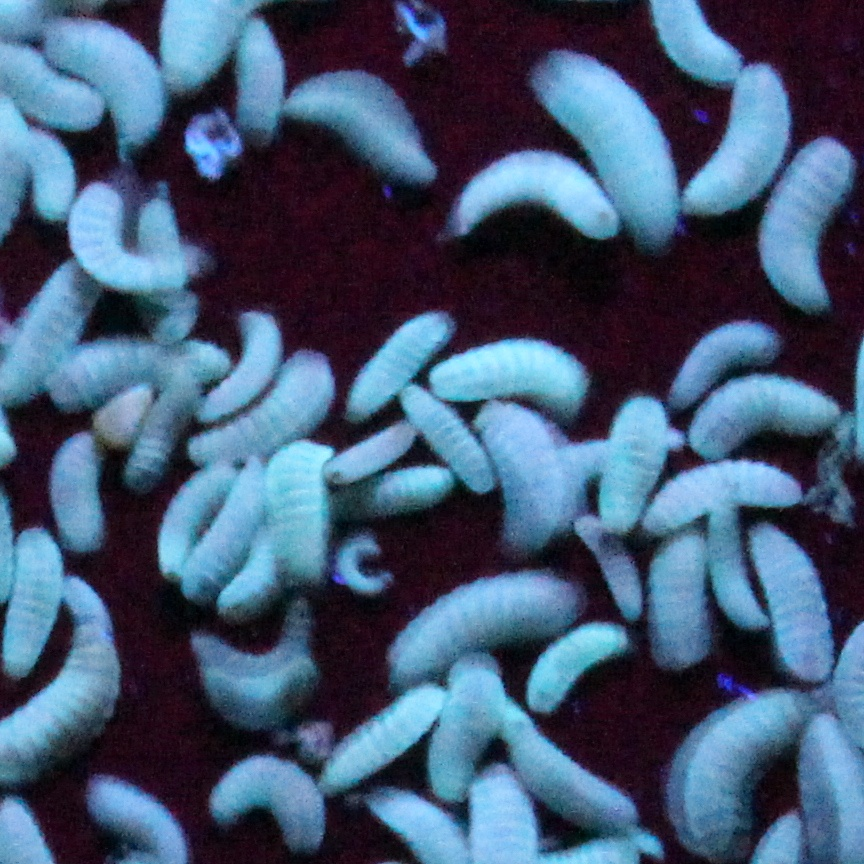larve: (522, 46, 675, 259), (383, 564, 581, 687), (271, 63, 445, 202), (668, 56, 794, 230), (760, 125, 860, 330), (30, 17, 173, 153), (736, 513, 838, 687), (462, 399, 575, 545), (337, 297, 460, 428), (435, 148, 629, 231), (637, 524, 728, 688), (177, 622, 314, 727), (421, 331, 594, 412), (316, 677, 437, 792), (521, 608, 639, 725), (653, 315, 791, 413), (145, 445, 242, 584), (60, 179, 180, 287), (630, 461, 819, 527), (203, 751, 330, 849), (258, 436, 337, 592), (193, 300, 288, 425), (583, 386, 663, 531), (47, 430, 114, 566)
